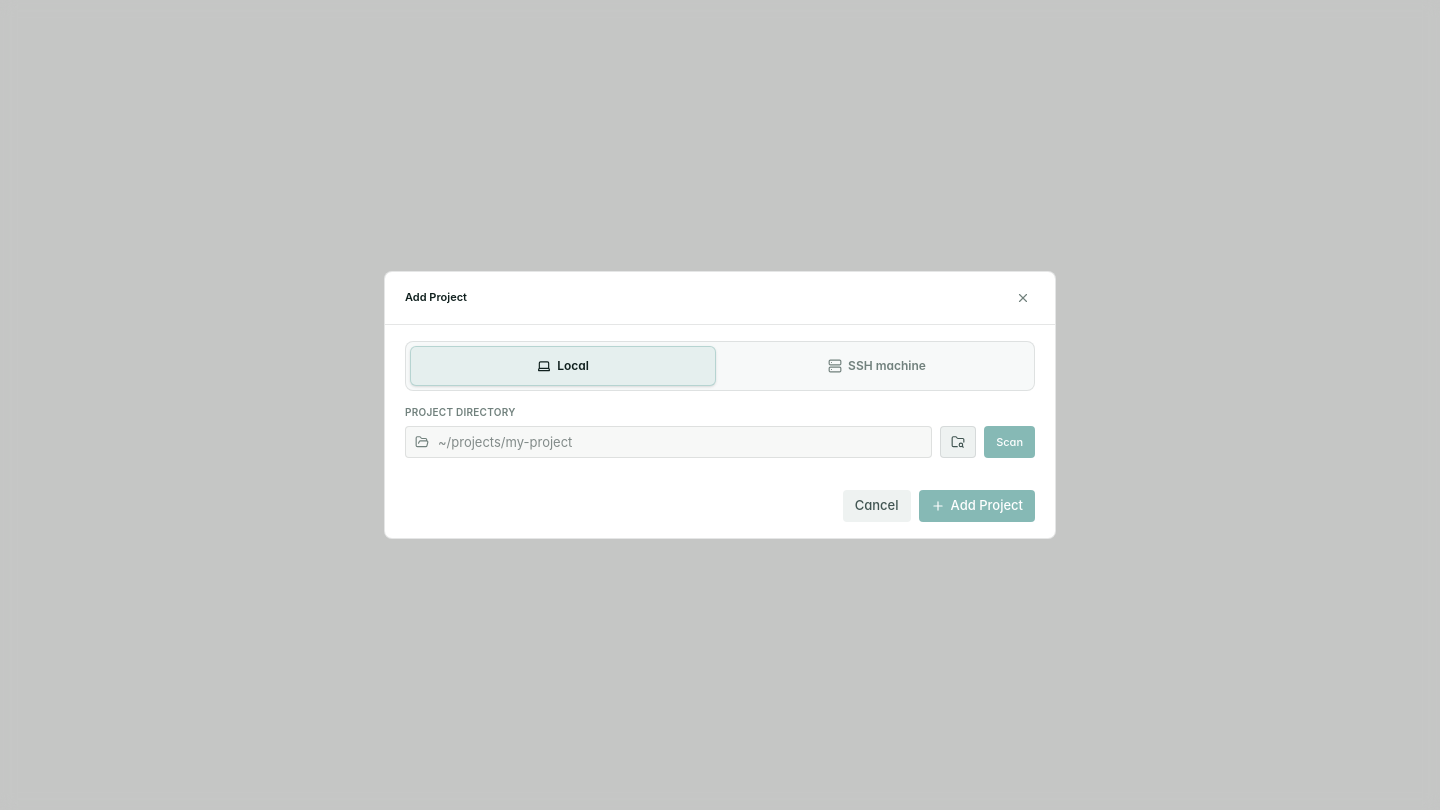
AddProjectModal › uses the native directory picker when available
Click the button named "Browse folder". click: (958, 442)
box: [940,426,976,458]
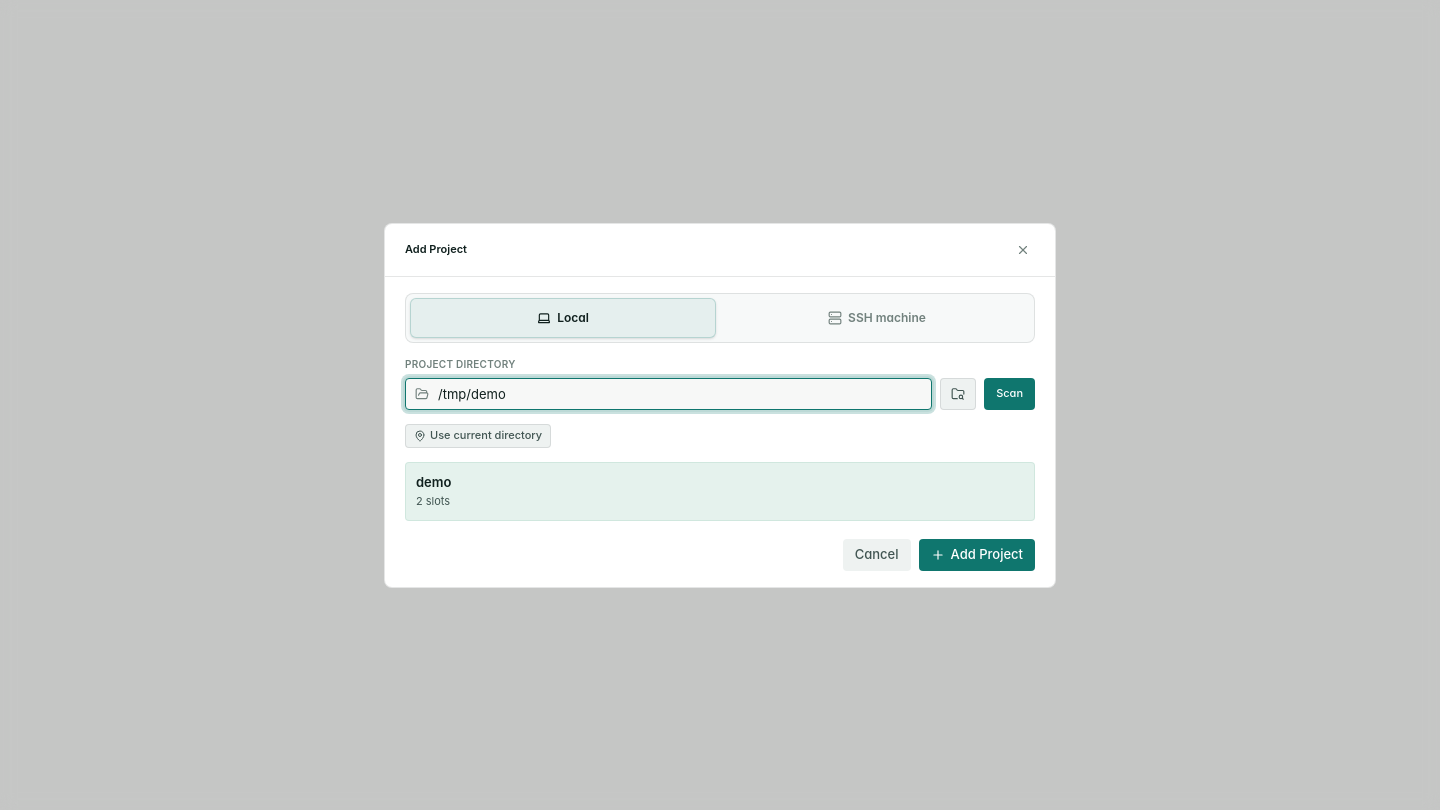
expect the button named "Browse folder" is enabled: met, box [940,378,976,410]
expect the text "demo" is shown: met, box [416,474,451,490]
